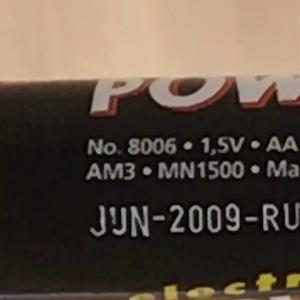1,5V: (192, 128, 254, 162)
